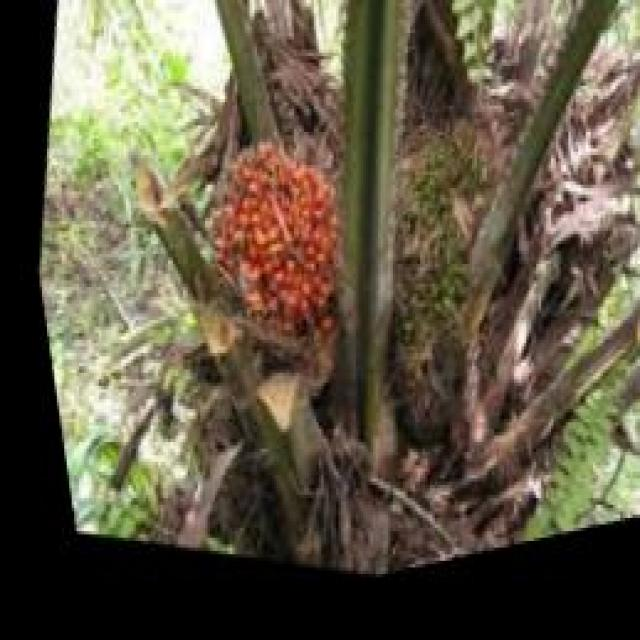Ripefruit: (174, 117, 365, 384)
